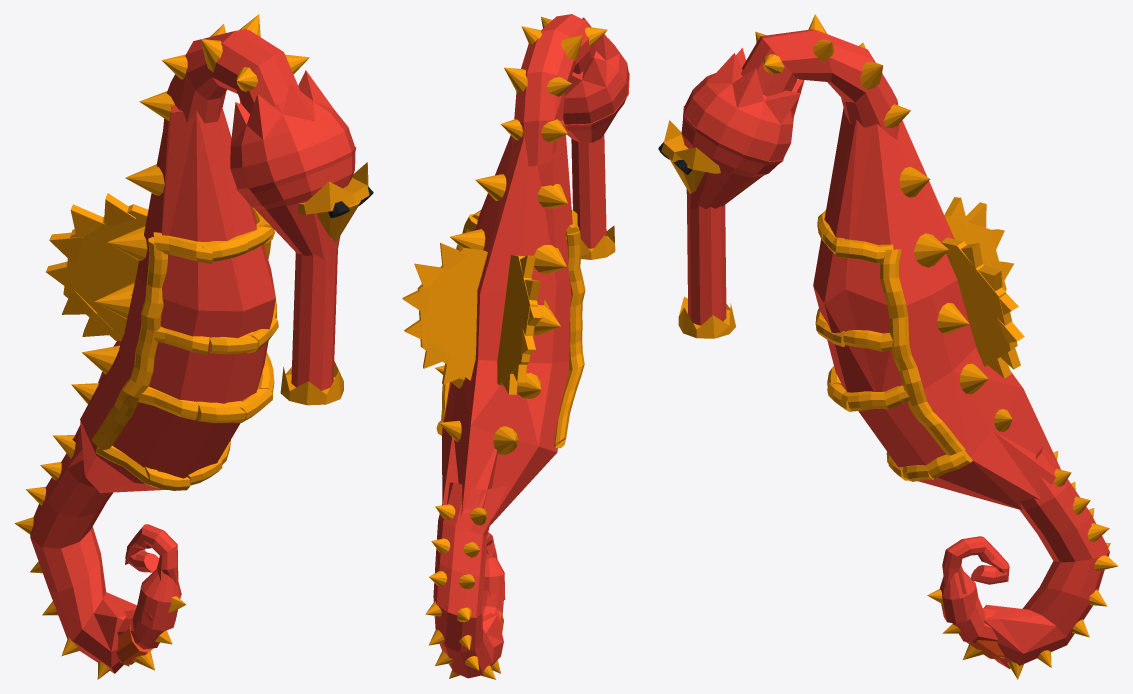
Rendered from sea horse.glb.
3 renders of one model, left to right at view 1: azimuth 30°, elevation 25°; view 2: azimuth 150°, elevation 25°; view 3: azimuth 270°, elevation 25°, orthographic. The views are drawn at different scales.
Visible parts, largest first — view 1: group523369837, group973204318, group1144277146, group2136377979, group582067541, group1417412386, group803562612, group1262722109, group1691079139, group1756371341, group151465895, group1540985313 (+12 smaller); view 2: group523369837, group973204318, group48352649, group582067541, group1144277146, group2136377979, group1417412386, group803562612, group1171268782, group1691079139, group409214010, group375074297 (+8 smaller); view 3: group523369837, group973204318, group1144277146, group582067541, group48352649, group1417412386, group275825795, group2136377979, group1262722109, group1691079139, group879911198, group134147670 (+3 smaller).
Part boxes in pixels (x1,y1,x2,y2): group523369837: [72, 105, 275, 492]; group973204318: [30, 424, 181, 673]; group1144277146: [230, 70, 356, 288]; group2136377979: [46, 193, 148, 340]; group582067541: [163, 29, 299, 133]; group1417412386: [291, 246, 337, 390]; group803562612: [91, 237, 167, 450]; group1262722109: [298, 162, 369, 214]; group1691079139: [280, 361, 343, 405]; group1756371341: [153, 232, 213, 263]; group151465895: [138, 386, 198, 420]; group1540985313: [196, 401, 245, 422]; group523369837: [442, 119, 572, 525]; group973204318: [433, 482, 508, 678]; group48352649: [402, 242, 549, 384]; group582067541: [512, 14, 595, 166]; group1144277146: [563, 17, 629, 143]; group2136377979: [497, 255, 541, 394]; group1417412386: [571, 134, 606, 248]; group803562612: [554, 231, 585, 445]; group1171268782: [534, 245, 566, 274]; group1691079139: [580, 225, 615, 259]; group409214010: [537, 184, 567, 208]; group375074297: [493, 426, 518, 454]; group523369837: [813, 108, 1059, 510]; group973204318: [939, 447, 1109, 668]; group1144277146: [681, 48, 804, 231]; group582067541: [741, 29, 899, 139]; group48352649: [941, 237, 1024, 378]; group1417412386: [686, 192, 726, 325]; group275825795: [880, 249, 965, 455]; group2136377979: [944, 197, 1013, 291]; group1262722109: [661, 120, 720, 173]; group1691079139: [678, 296, 735, 338]; group879911198: [847, 386, 902, 411]; group134147670: [835, 238, 893, 263].
Size of the model in its own units: 0.0903 by 0.3733 by 0.2399.
